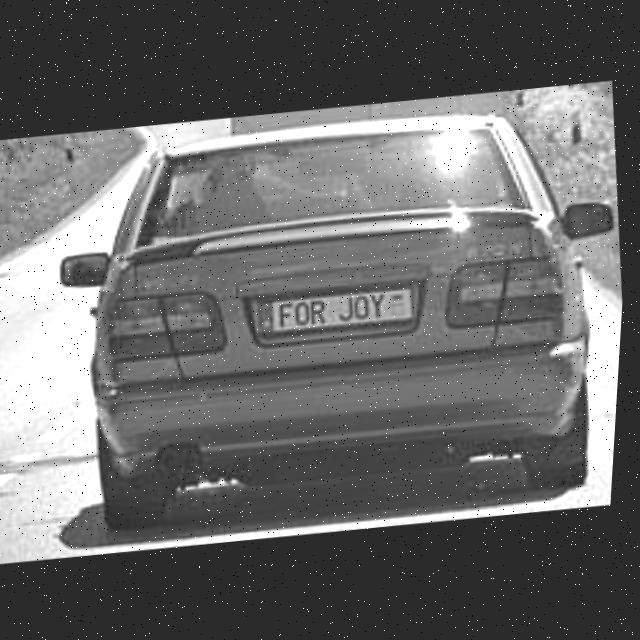license-plates: (255, 289, 414, 336)
